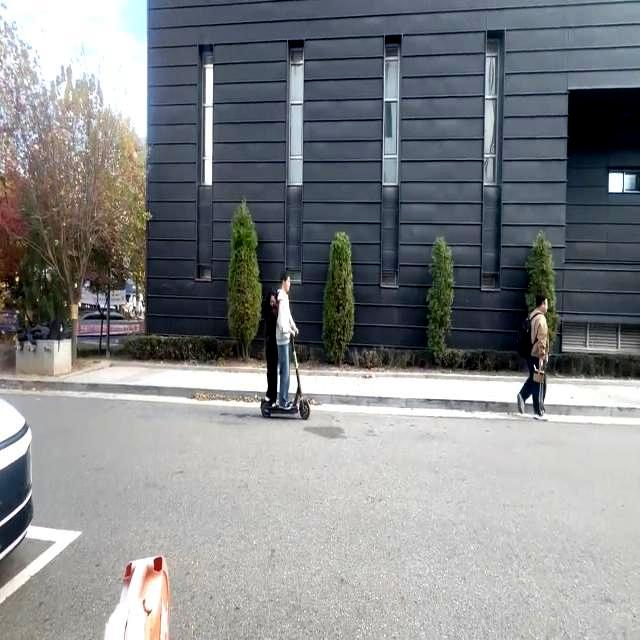bare_head: (263, 285, 278, 311), (277, 272, 293, 293)
human: (275, 273, 297, 408), (259, 286, 279, 407)
kickboard: (256, 396, 313, 423)
